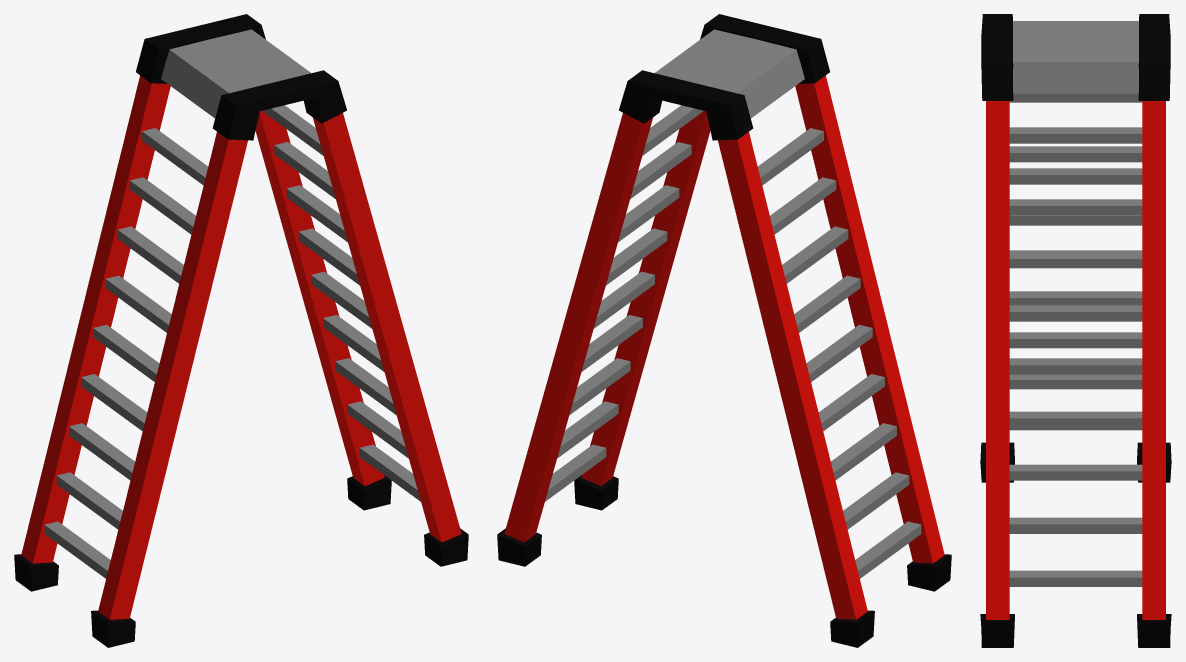
Rendered from escalera.fbx.
3 views of the same model, side by side, from view 1: azimuth 30°, elevation 25°; view 2: azimuth 150°, elevation 25°; view 3: azimuth 270°, elevation 25° (orthographic).
Visible parts, largest first — view 1: Cube; view 2: Cube; view 3: Cube.
Boxes of the visible parts, x1,y1,x2,y2 form: Cube: (14,14,468,647); Cube: (497,14,951,647); Cube: (980,14,1171,647).
Bounding box in the file's own units: 1144 × 1543 × 515.
